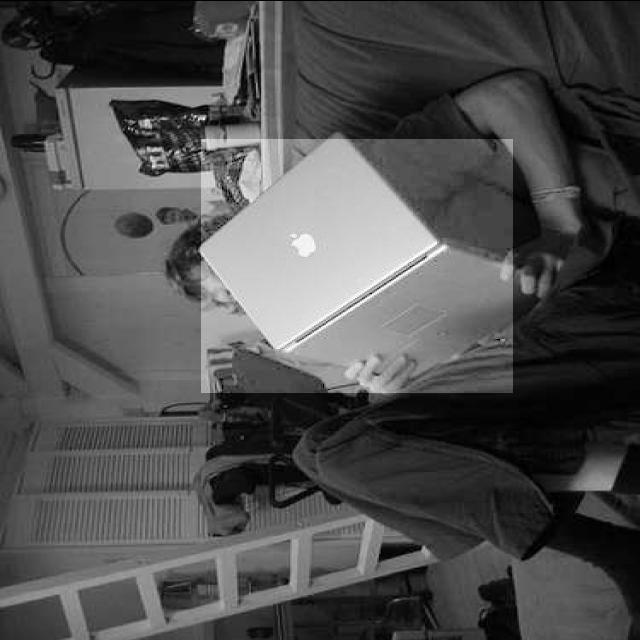-keyboard-: (201, 139, 513, 393)
